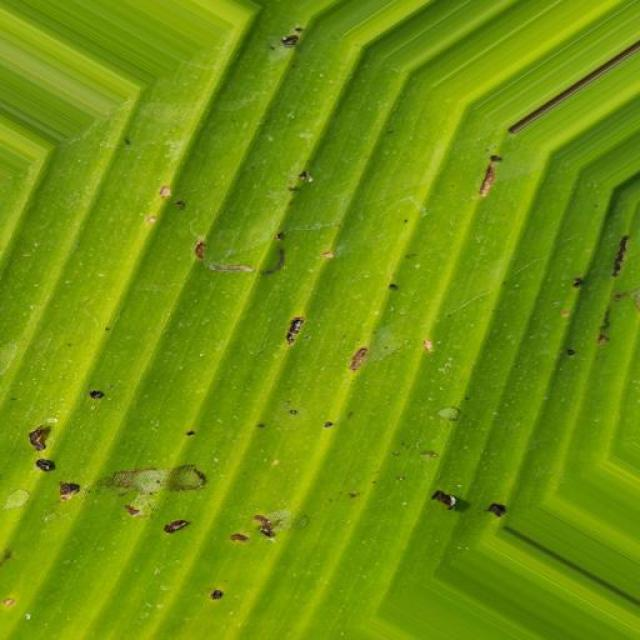Black_rot: (5, 376, 564, 630), (138, 146, 480, 384), (459, 127, 640, 389), (235, 30, 388, 84)
